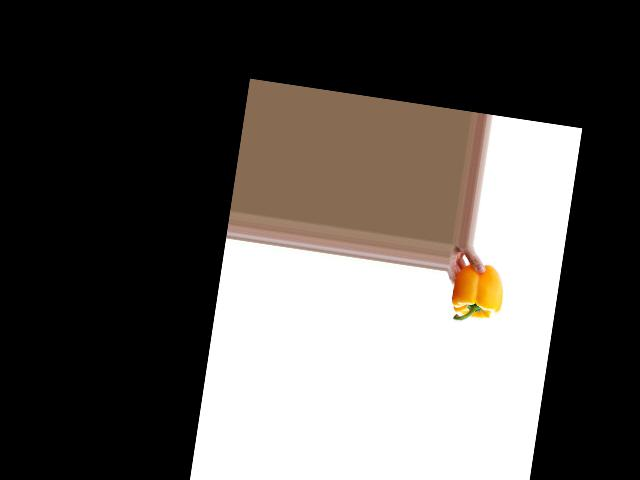bell_pepper: (448, 259, 508, 329)
